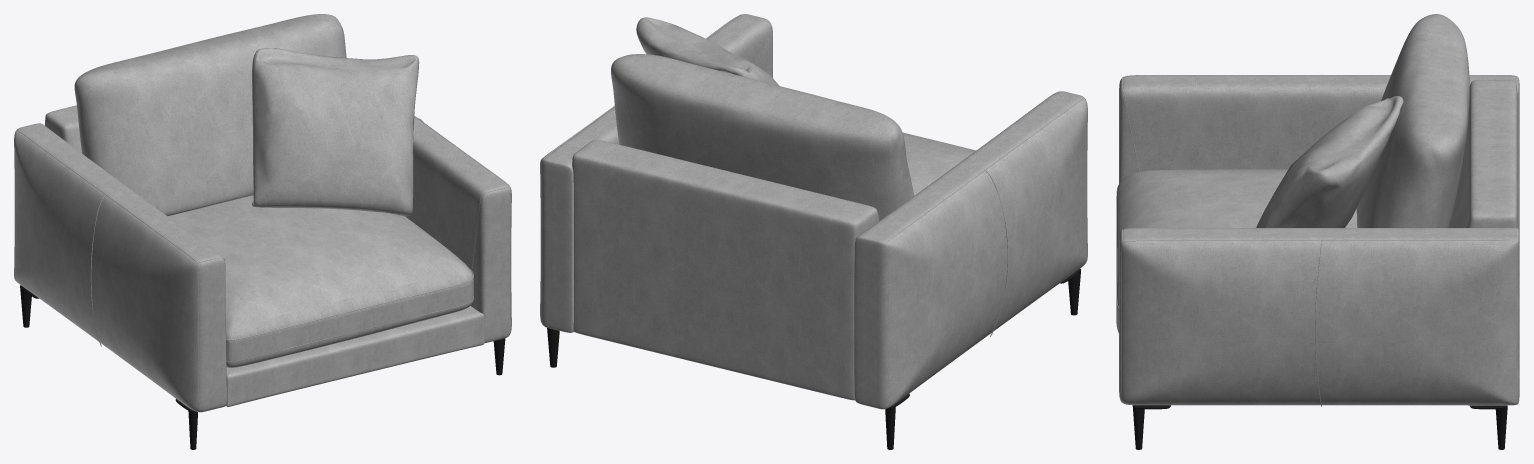
The model's file is meiple.glb.
3 renders of one model, left to right at view 1: azimuth 30°, elevation 25°; view 2: azimuth 150°, elevation 25°; view 3: azimuth 270°, elevation 25°, orthographic. The views are drawn at different scales.
Visible parts, largest first — view 1: braço (×2), Almofada de assento, object 13, ALMOFADA DECO#4, estrutura, Costa Kaori; view 2: Costa Kaori (×2), braço (×2), object 13, ALMOFADA DECO#4, Almofada de assento; view 3: braço (×2), object 13, ALMOFADA DECO#4, Almofada de assento, Costa Kaori (×2), Pé Stiletto#5 (×2), D=~ 0,00 m.
Part boxes in pixels (<box>): braço (×2): <box>14,116,511,412</box>; Almofada de assento: <box>168,195,473,367</box>; object 13: <box>74,14,346,215</box>; ALMOFADA DECO#4: <box>251,48,419,216</box>; estrutura: <box>226,306,484,406</box>; Costa Kaori: <box>45,105,81,152</box>; Costa Kaori (×2): <box>572,140,879,400</box>; braço (×2): <box>540,14,1087,409</box>; object 13: <box>611,54,914,220</box>; ALMOFADA DECO#4: <box>636,17,779,85</box>; Almofada de assento: <box>903,132,975,195</box>; braço (×2): <box>1119,75,1519,405</box>; object 13: <box>1356,14,1469,227</box>; ALMOFADA DECO#4: <box>1256,96,1403,227</box>; Almofada de assento: <box>1116,169,1357,333</box>; Costa Kaori (×2): <box>1449,80,1517,227</box>; Pé Stiletto#5 (×2): <box>1132,405,1507,449</box>; D=~ 0,00 m: <box>1120,240,1514,401</box>.
Size of the model in its own units: 1.09 by 0.8031 by 1.01.
2 materials, 1 textured.
